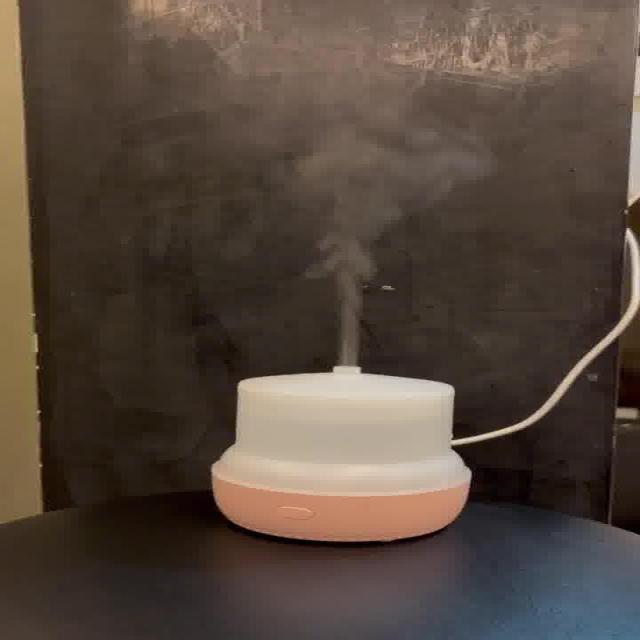fire: (274, 134, 488, 366)
